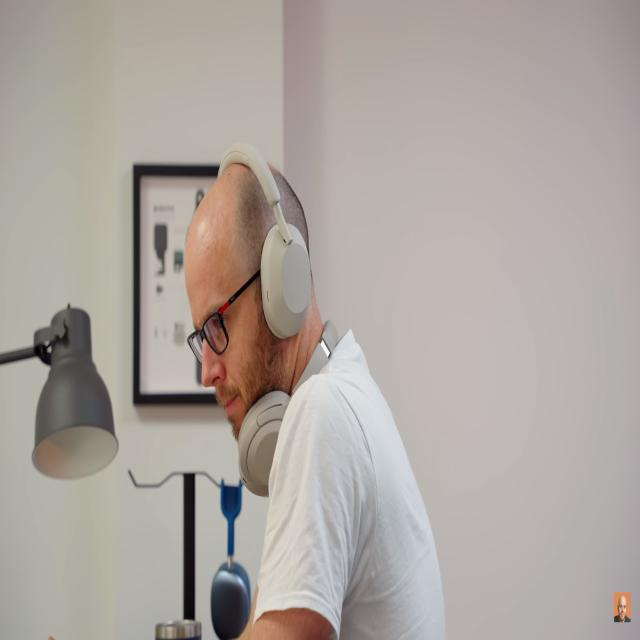Headphone: (236, 315, 340, 501), (218, 140, 313, 343)
